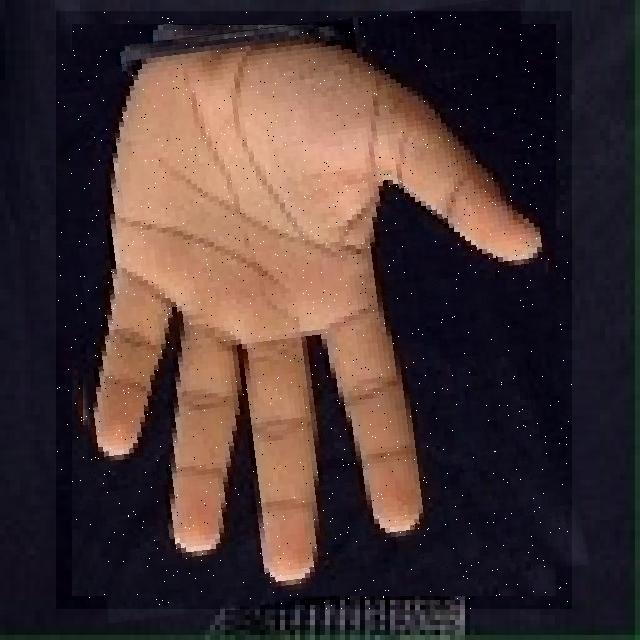Yes: (56, 11, 572, 609)
